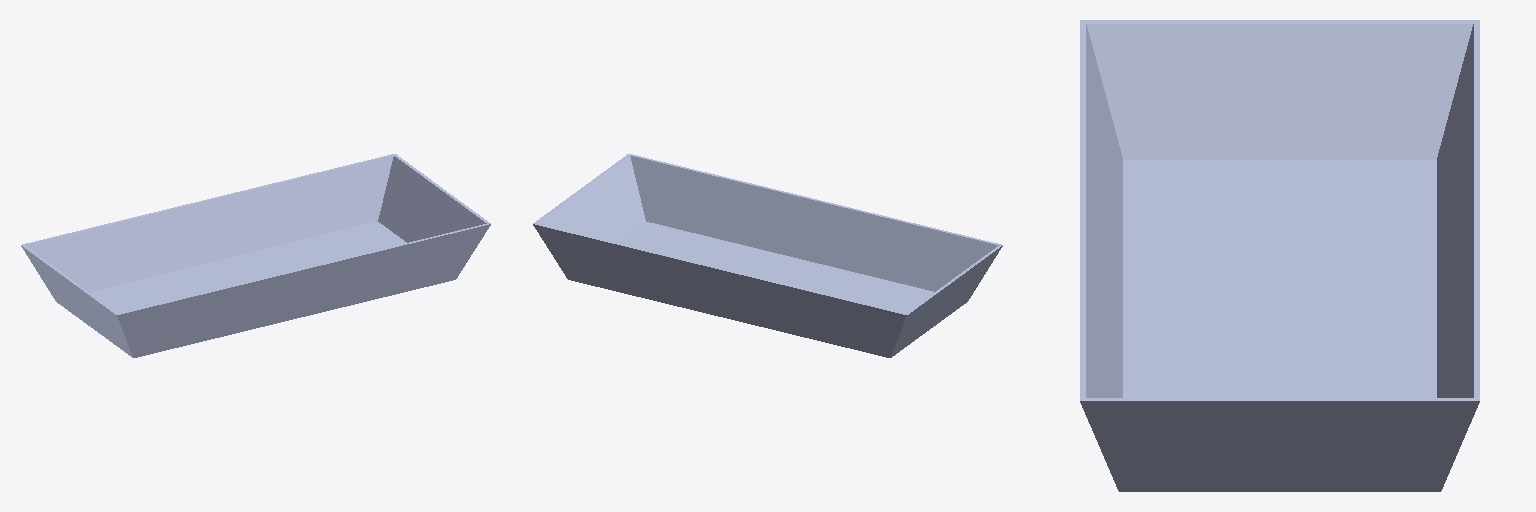
URDF robot description (bucket.SLDPRT):
<?xml version="1.0" encoding="utf-8"?>
<!-- This URDF was automatically created by SolidWorks to URDF Exporter! Originally created by [author] ([email redacted]) 
     Commit Version: 1.5.1-0-g916b5db  Build Version: 1.5.7152.31018
     For more information, please see http://wiki.ros.org/sw_urdf_exporter -->
<robot
  name="bucket.SLDPRT">
  <link
    name="bucket.SLDPRT">
    <inertial>
      <origin
        xyz="8.9822E-16 -7.24171511999094E-17 0.061601"
        rpy="0 0 0" />
      <mass
        value="13.519" />
      <inertia
        ixx="0.64029"
        ixy="-9.0421E-16"
        ixz="-1.3607E-15"
        iyy="2.4855"
        iyz="1.28127039819607E-16"
        izz="3.0106" />
    </inertial>
    <visual>
      <origin
        xyz="0 0 0"
        rpy="1.5707963267949 0 0" />
      <geometry>
        <mesh
          filename="package://bucket.SLDPRT/meshes/bucket.SLDPRT.STL" />
      </geometry>
      <material
        name="">
        <color
          rgba="0.79216 0.81961 0.93333 1" />
        <texture
          filename="package://bucket.SLDPRT/textures/" />
      </material>
    </visual>
    <collision>
      <origin
        xyz="0 0 0"
        rpy="1.5707963267949 0 0" />
      <geometry>
        <mesh
          filename="package://bucket.SLDPRT/meshes/bucket.SLDPRT.STL" />
      </geometry>
    </collision>
  </link>
</robot>

--- Render facts (derived) ---
Views: 3 orthographic renders of the robot side by side, from view 1: azimuth 30°, elevation 25°; view 2: azimuth 150°, elevation 25°; view 3: azimuth 270°, elevation 25°.
Model bucket.SLDPRT with 1 links and 0 joints (none), rooted at bucket.SLDPRT, posed all joints at 0.
Links seen in each view (by area): view 1: bucket.SLDPRT; view 2: bucket.SLDPRT; view 3: bucket.SLDPRT.
Link boxes in pixels (x1=…): bucket.SLDPRT: x1=21, y1=154, x2=490, y2=357; bucket.SLDPRT: x1=533, y1=154, x2=1002, y2=357; bucket.SLDPRT: x1=1080, y1=20, x2=1479, y2=491.
Size in the robot's own frame: 1.39 by 0.6204 by 0.2 metres.
1 mesh visuals loaded from 1 distinct referenced files (1 binary STL).